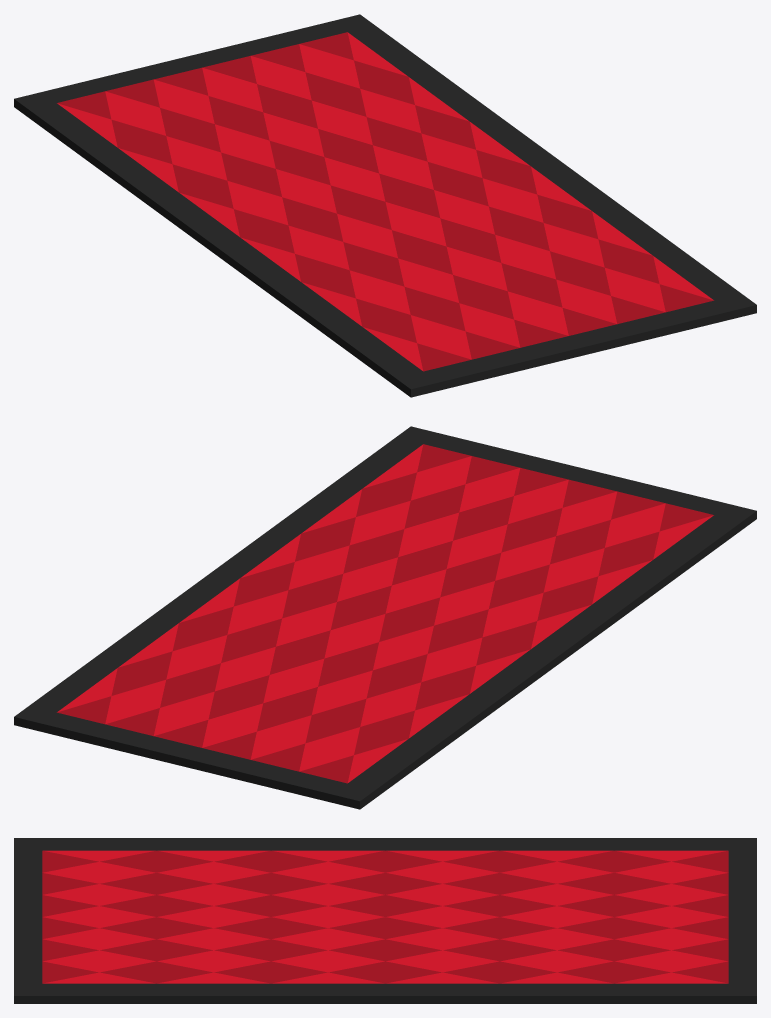
Rendered from Carpet_2.fbx.
3 views of the same model, one above another, from view 1: azimuth 30°, elevation 25°; view 2: azimuth 150°, elevation 25°; view 3: azimuth 270°, elevation 25° (orthographic). The views are drawn at different scales.
Visible parts, largest first — view 1: Carpet_2; view 2: Carpet_2; view 3: Carpet_2.
Boxes of the visible parts, bbox=[...] form: Carpet_2: bbox=[14, 14, 756, 397]; Carpet_2: bbox=[14, 426, 756, 809]; Carpet_2: bbox=[14, 838, 756, 1003].
Size of the model in its own units: 305 by 7 by 605.
